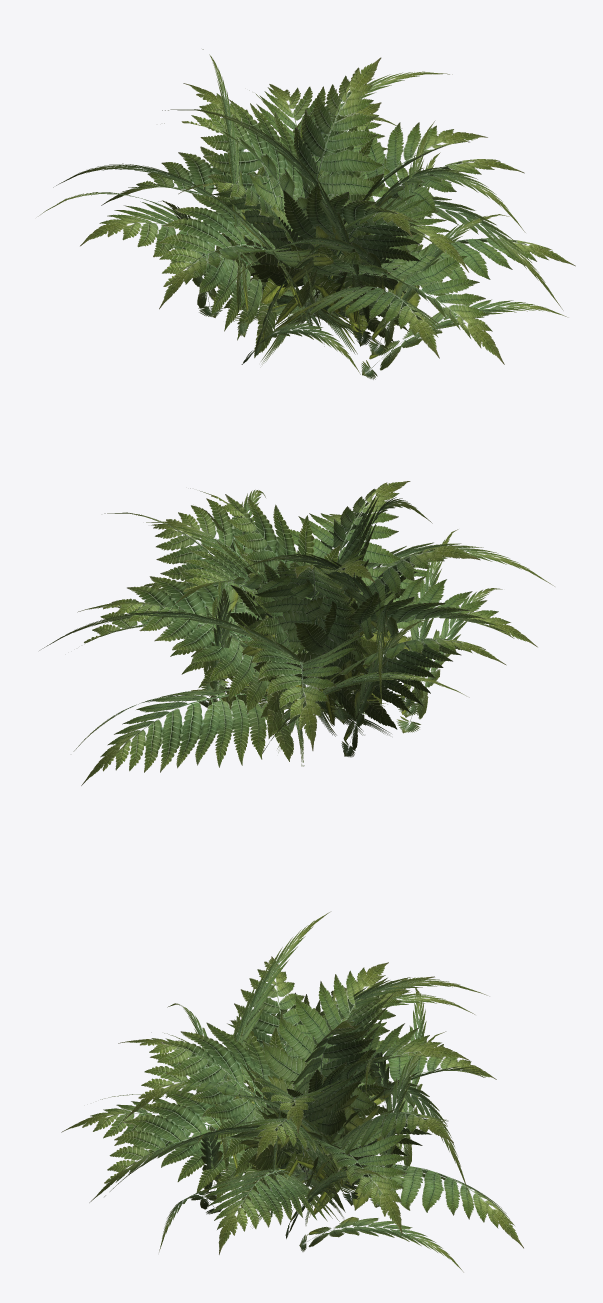
File: fern-a.glb
3 views of the same model, one above another, from view 1: azimuth 30°, elevation 25°; view 2: azimuth 150°, elevation 25°; view 3: azimuth 270°, elevation 25° (orthographic). The views are drawn at different scales.
Parts seen in each view (by area): view 1: fern-a; view 2: fern-a; view 3: fern-a.
Boxes of the visible parts, x1=… form: fern-a: x1=38, y1=49, x2=575, y2=379; fern-a: x1=39, y1=481, x2=554, y2=785; fern-a: x1=61, y1=911, x2=523, y2=1272.
Bounding box in the file's own units: 2.76 × 1.52 × 2.78.
1 material, 1 textured.
